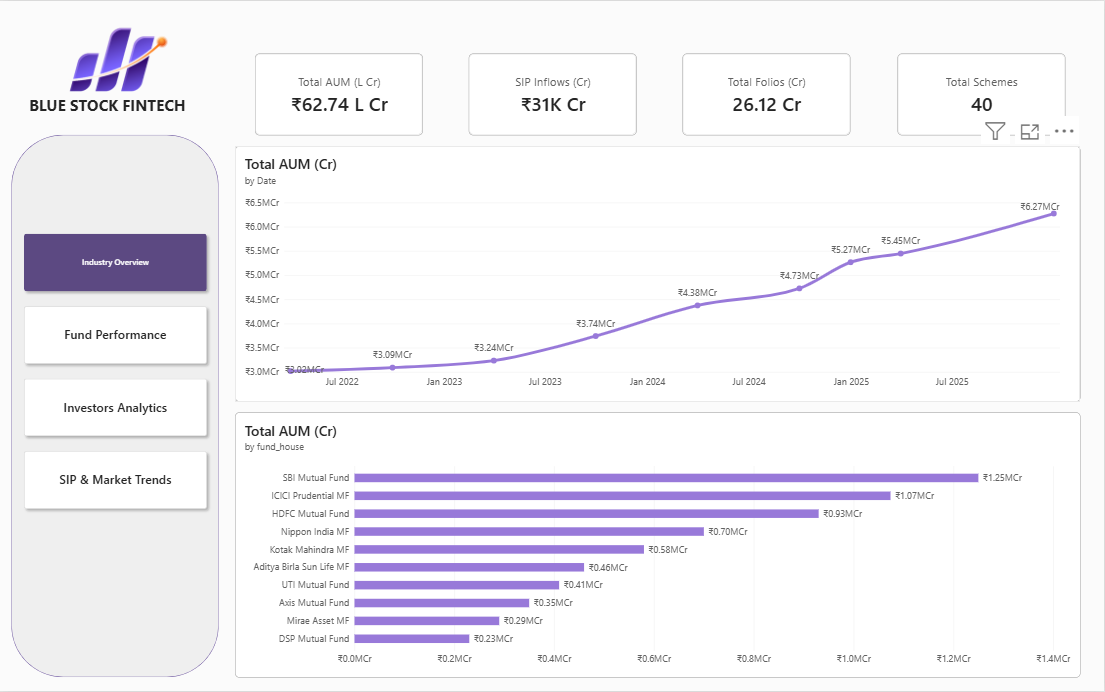

The page's visual inventory and layout, read from the dashboard file:
{"tool":"powerbi","page":{"name":"Industry Overview","canvas":[1920,1200],"ordinal":0},"visuals":[{"type":"image","box":[0,0,404.3,204.3],"z":0,"group":"g1"},{"type":"cardVisual","fields":{"Data":["_Measures.Total AUM (L Cr)"]},"box":[442.4,91.2,292,142],"z":0},{"type":"cardVisual","fields":{"Data":["_Measures.SIP Inflows (Latest Month, Cr)"]},"box":[815.1,91.2,292,142],"z":1000},{"type":"textbox","box":[19.6,163,334.8,52.2],"z":1000,"group":"g1"},{"type":"cardVisual","fields":{"Data":["_Measures.Total Schemes"]},"box":[1560.4,91.2,292,142],"z":2000},{"type":"cardVisual","fields":{"Data":["_Measures.Total Folios (Cr)"]},"box":[1187.8,91.2,292,142],"z":3000},{"type":"lineChart","fields":{"Category":["dim_date.Date"],"Y":["_Measures.Total AUM (Cr)"]},"box":[408.5,253.2,1470.2,444.7],"z":4000},{"type":"clusteredBarChart","fields":{"Category":["aum_by_fund_house.fund_house"],"Y":["_Measures.Total AUM (Cr)"]},"box":[408.5,714.9,1470.2,461.7],"z":5000},{"type":"group","id":"g1","title":"Group 1","box":[0,0,404.3,215.2],"z":6000},{"type":"shape","box":[19.6,232.6,360.9,943.5],"z":7000},{"type":"pageNavigator","box":[32.6,395.7,337,497.8],"z":8000}]}

Visuals, with their boxes in screenshot pixels (x1, y1, x2, y2), scaled from the page's 1920x1200 canvas onto the 1105x692 screenshot:
image: {"left": 0, "top": 0, "right": 233, "bottom": 118}
cardVisual - _Measures.Total AUM (L Cr): {"left": 255, "top": 53, "right": 423, "bottom": 134}
cardVisual - _Measures.SIP Inflows (Latest Month, Cr): {"left": 469, "top": 53, "right": 637, "bottom": 134}
textbox: {"left": 11, "top": 94, "right": 204, "bottom": 124}
cardVisual - _Measures.Total Schemes: {"left": 898, "top": 53, "right": 1066, "bottom": 134}
cardVisual - _Measures.Total Folios (Cr): {"left": 684, "top": 53, "right": 852, "bottom": 134}
lineChart - dim_date.Date x _Measures.Total AUM (Cr): {"left": 235, "top": 146, "right": 1081, "bottom": 402}
clusteredBarChart - aum_by_fund_house.fund_house x _Measures.Total AUM (Cr): {"left": 235, "top": 412, "right": 1081, "bottom": 679}
"Group 1" group: {"left": 0, "top": 0, "right": 233, "bottom": 124}
shape: {"left": 11, "top": 134, "right": 219, "bottom": 678}
pageNavigator: {"left": 19, "top": 228, "right": 213, "bottom": 515}
